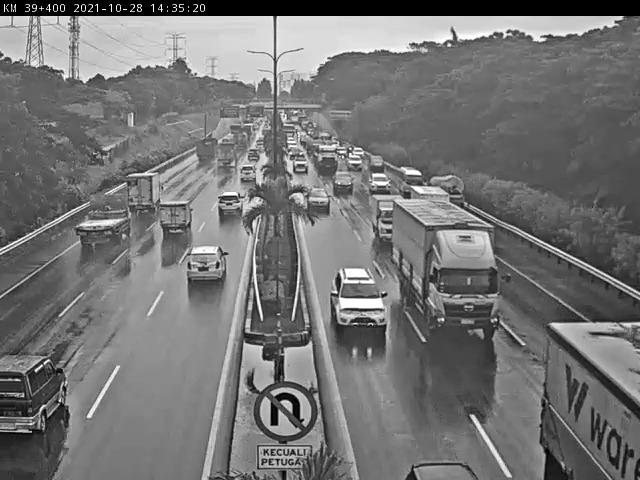big truck: (539, 316, 640, 480), (391, 199, 501, 343), (314, 144, 340, 176), (195, 134, 221, 165)
car: (0, 353, 72, 439), (324, 264, 395, 336), (188, 241, 228, 287), (405, 461, 488, 480), (159, 199, 192, 231), (302, 186, 333, 215), (218, 191, 246, 217), (368, 174, 395, 195), (333, 173, 357, 194), (290, 157, 313, 176), (346, 154, 367, 174), (368, 154, 388, 174), (235, 167, 257, 184), (246, 147, 261, 162)
small bus: (398, 167, 424, 197)
small truck: (78, 193, 134, 249), (371, 192, 405, 249), (128, 171, 162, 215), (433, 173, 468, 213), (410, 185, 451, 211), (215, 139, 240, 167)
